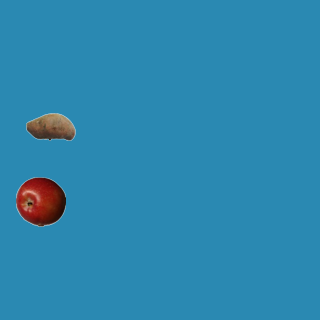Apple Braeburn: (15, 176, 65, 226)
Potato Sweet: (25, 101, 75, 151)
